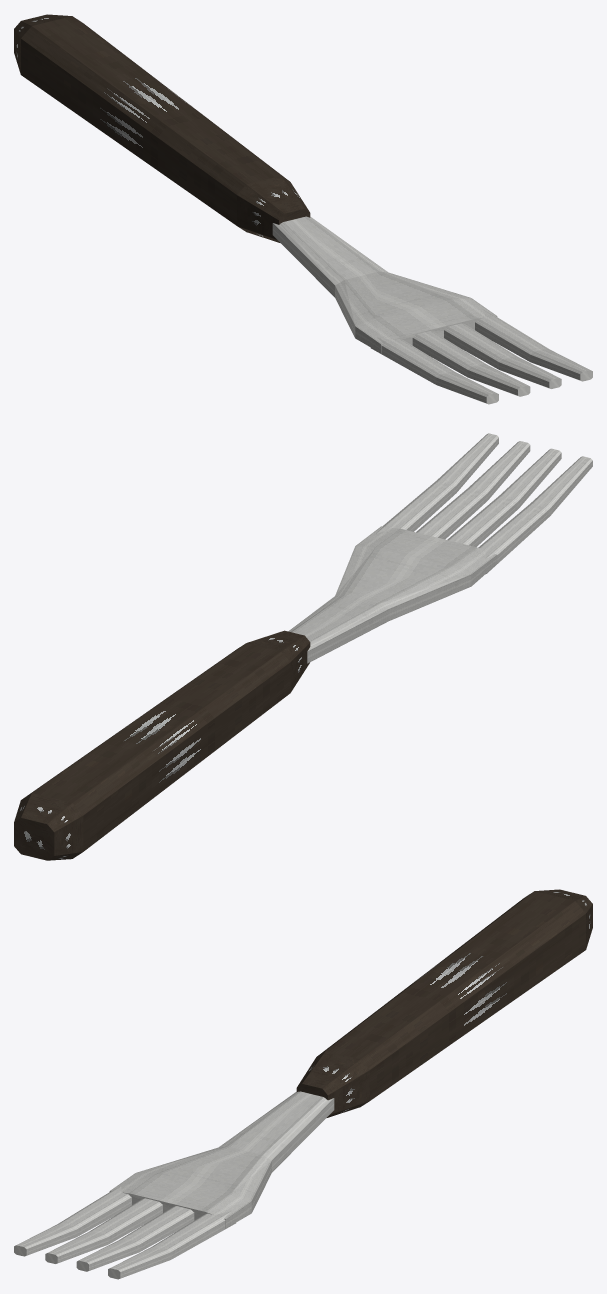
Rendered from fork.glb.
The picture shows the model from 3 angles, top to bottom: view 1: azimuth 30°, elevation 25°; view 2: azimuth 150°, elevation 25°; view 3: azimuth 330°, elevation 25°; orthographic projection.
Visible parts, largest first — view 1: home_fork; view 2: home_fork; view 3: home_fork.
Boxes of the visible parts, x1,y1,x2,y2 form: home_fork: [14, 14, 592, 404]; home_fork: [14, 433, 592, 860]; home_fork: [14, 889, 592, 1279].
Size of the model in its own units: 0.026 by 0.012 by 0.196.
Materials: 1 (1 with a texture image).
